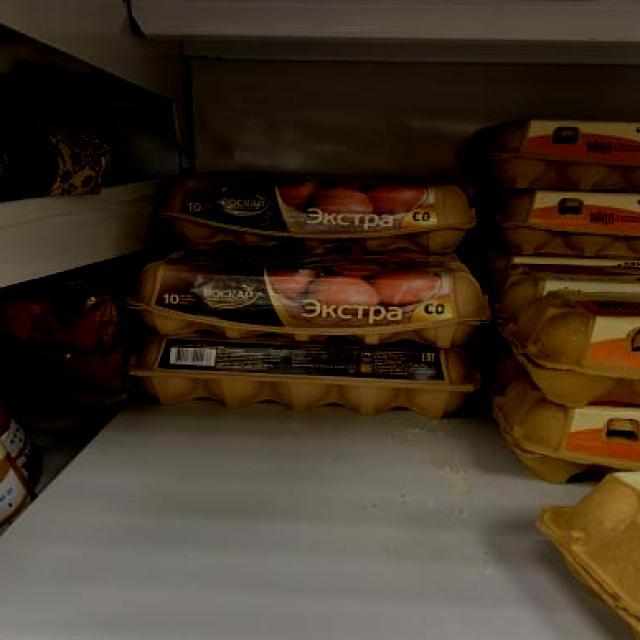Eggs: (124, 248, 494, 344), (152, 170, 478, 254), (506, 290, 640, 406), (473, 114, 640, 194), (0, 252, 132, 352), (481, 188, 640, 262), (0, 106, 112, 194)
